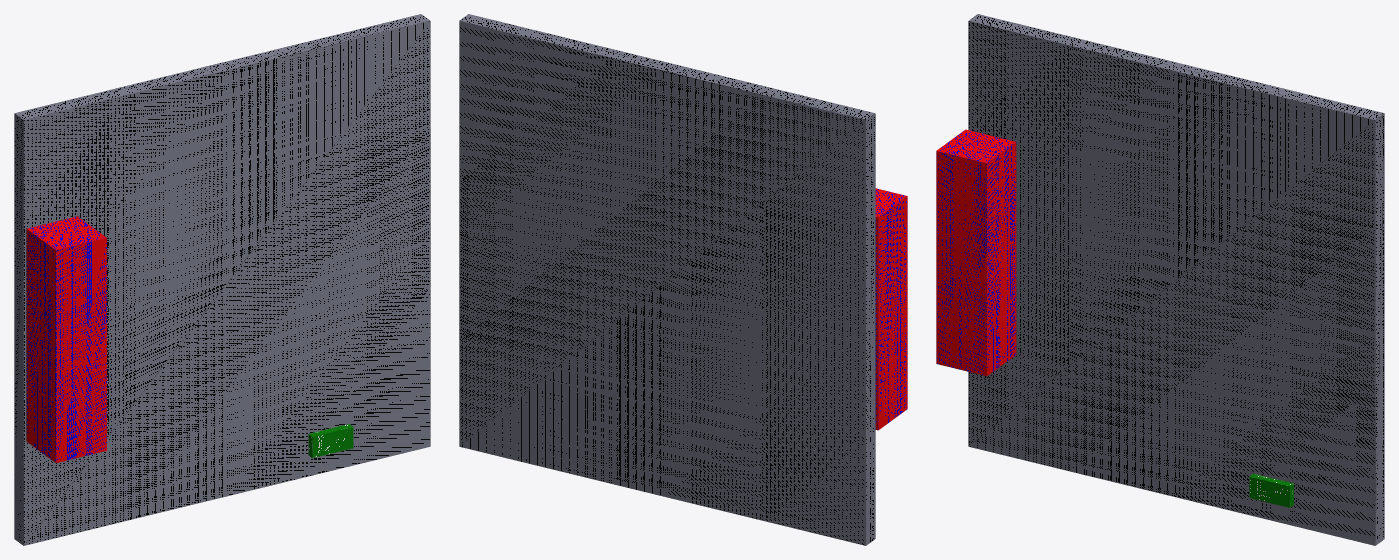
Rendered from imu_v3.obj.
3 views of the same model, side by side, from view 1: azimuth 30°, elevation 25°; view 2: azimuth 150°, elevation 25°; view 3: azimuth 330°, elevation 25° (orthographic).
Size of the model in its own units: 2 by 2 by 0.355.
1 material, 1 textured.
